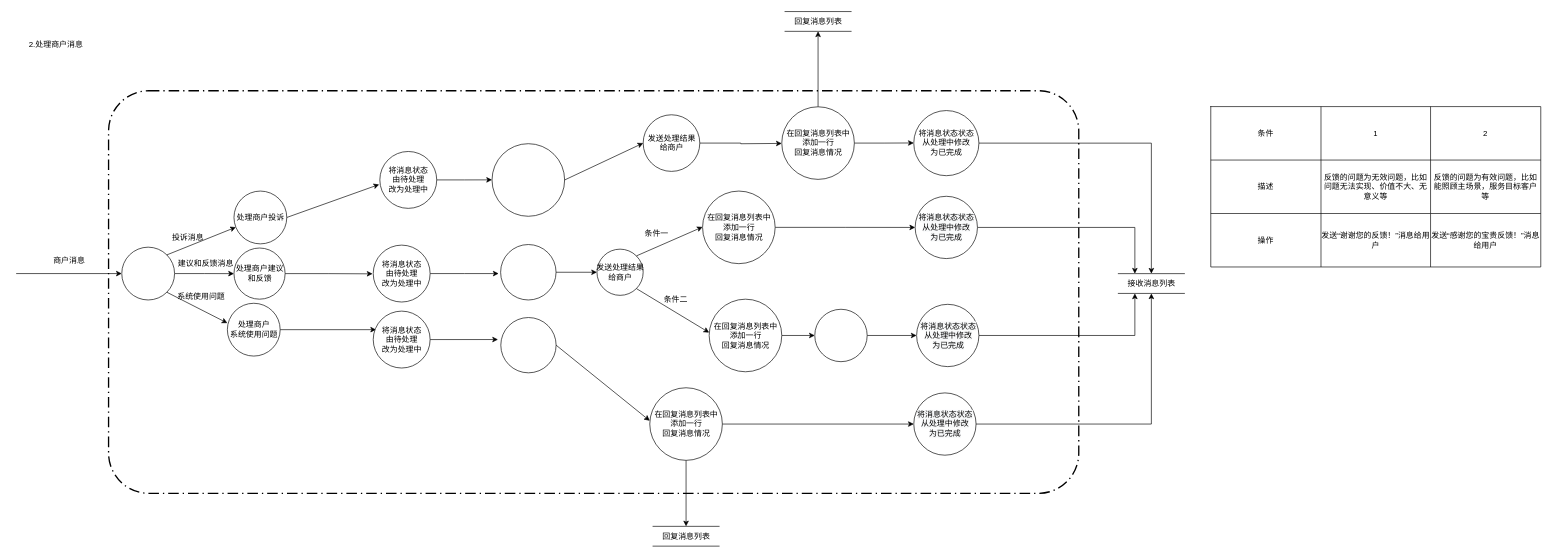
The diagram is 1552 pixels wide and 558 high, and some of its shapes have lost their labels. Here are the shapes that lost their labels. From the top down, the centre of each, then its label:
the point at 528,179: 了解商户投诉内容 有关的详细情况， 作出处理方案， 生成处理结果
the point at 148,273: 判断商户 消息类型
the point at 528,272: 对反馈过滤
the point at 528,345: 将商户使用帮助 发送给商户
the point at 840,335: 对反馈作 进一步分析 直到处理完毕
